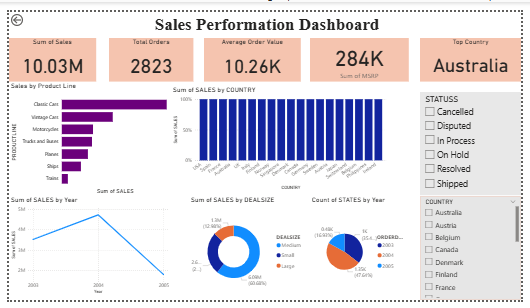

The page's visual inventory and layout, read from the dashboard file:
{"tool":"powerbi","page":{"name":"Page 2","canvas":[1280,720],"ordinal":0},"visuals":[{"type":"textbox","box":[10.1,0,1270.1,64.8],"z":0},{"type":"card","title":"Sum of Sales","fields":{"Values":["Sum(sales_data.SALES)"]},"box":[0,64.4,217.8,108.9],"z":1000},{"type":"card","title":"Total Orders","fields":{"Values":["CountNonNull(sales_data.ORDERNUMBER)"]},"box":[251.1,64.4,211.1,108.9],"z":2000},{"type":"card","title":"Average Order Value","fields":{"Values":["Avg(sales_data.ORDERNUMBER)"]},"box":[486.7,64.4,242.2,108.9],"z":3000},{"type":"card","title":"Top Country","fields":{"Values":["Min(sales_data.COUNTRY)"]},"box":[1026.7,64.4,253.3,108.9],"z":4000},{"type":"clusteredBarChart","title":"Sales by Product Line","fields":{"Category":["sales_data.PRODUCTLINE"],"Y":["Sum(sales_data.SALES)"]},"box":[0,174.2,404.6,285.1],"z":5000},{"type":"hundredPercentStackedColumnChart","fields":{"Category":["sales_data.COUNTRY"],"Y":["Sum(sales_data.SALES)"]},"box":[404.6,184.3,542.9,265],"z":6000},{"type":"lineChart","fields":{"Y":["Sum(sales_data.SALES)"],"Category":["sales_data.ORDERDATE.Variation.Date Hierarchy.Year","sales_data.ORDERDATE.Variation.Date Hierarchy.Quarter","sales_data.ORDERDATE.Variation.Date Hierarchy.Month","sales_data.ORDERDATE.Variation.Date Hierarchy.Day"]},"box":[0,459.4,404.6,250.6],"z":7000},{"type":"donutChart","fields":{"Category":["sales_data.DEALSIZE"],"Y":["Sum(sales_data.SALES)"]},"box":[451.1,460,302.2,260],"z":8000},{"type":"actionButton","box":[0,0,100,40],"z":9000},{"type":"card","fields":{"Values":["Sum(sales_data.MSRP)"]},"box":[753.3,64.4,246.7,108.9],"z":10000},{"type":"slicer","fields":{"Values":["sales_data.STATUSS"]},"box":[1026.7,200,253.3,257.8],"z":10001},{"type":"slicer","fields":{"Values":["sales_data.COUNTRY"]},"box":[1026.7,460,253.3,260],"z":10002},{"type":"pieChart","fields":{"Category":["sales_data.ORDERDATE.Variation.Date Hierarchy.Year","sales_data.ORDERDATE.Variation.Date Hierarchy.Quarter","sales_data.ORDERDATE.Variation.Date Hierarchy.Month","sales_data.ORDERDATE.Variation.Date Hierarchy.Day"],"Y":["CountNonNull(sales_data.STATES)"]},"box":[753.3,460,246.7,260],"z":10003}]}

Visuals, with their boxes on the page's 1280x720 design canvas (x1, y1, x2, y2). These are canvas units, not pixel positions in the 530x308 screenshot, which may show the page scaled, cropped or inside an application window:
textbox: <box>10,0,1280,65</box>
"Sum of Sales" card: <box>0,64,218,173</box>
"Total Orders" card: <box>251,64,462,173</box>
"Average Order Value" card: <box>487,64,729,173</box>
"Top Country" card: <box>1027,64,1280,173</box>
"Sales by Product Line" clusteredBarChart: <box>0,174,405,459</box>
hundredPercentStackedColumnChart - sales_data.COUNTRY x Sum(sales_data.SALES): <box>405,184,948,449</box>
lineChart - Sum(sales_data.SALES) x sales_data.ORDERDATE.Variation.Date Hierarchy.Year: <box>0,459,405,710</box>
donutChart - sales_data.DEALSIZE x Sum(sales_data.SALES): <box>451,460,753,720</box>
actionButton: <box>0,0,100,40</box>
card - Sum(sales_data.MSRP): <box>753,64,1000,173</box>
slicer - sales_data.STATUSS: <box>1027,200,1280,458</box>
slicer - sales_data.COUNTRY: <box>1027,460,1280,720</box>
pieChart - sales_data.ORDERDATE.Variation.Date Hierarchy.Year x sales_data.ORDERDATE.Variation.Date Hierarchy.Quarter: <box>753,460,1000,720</box>
